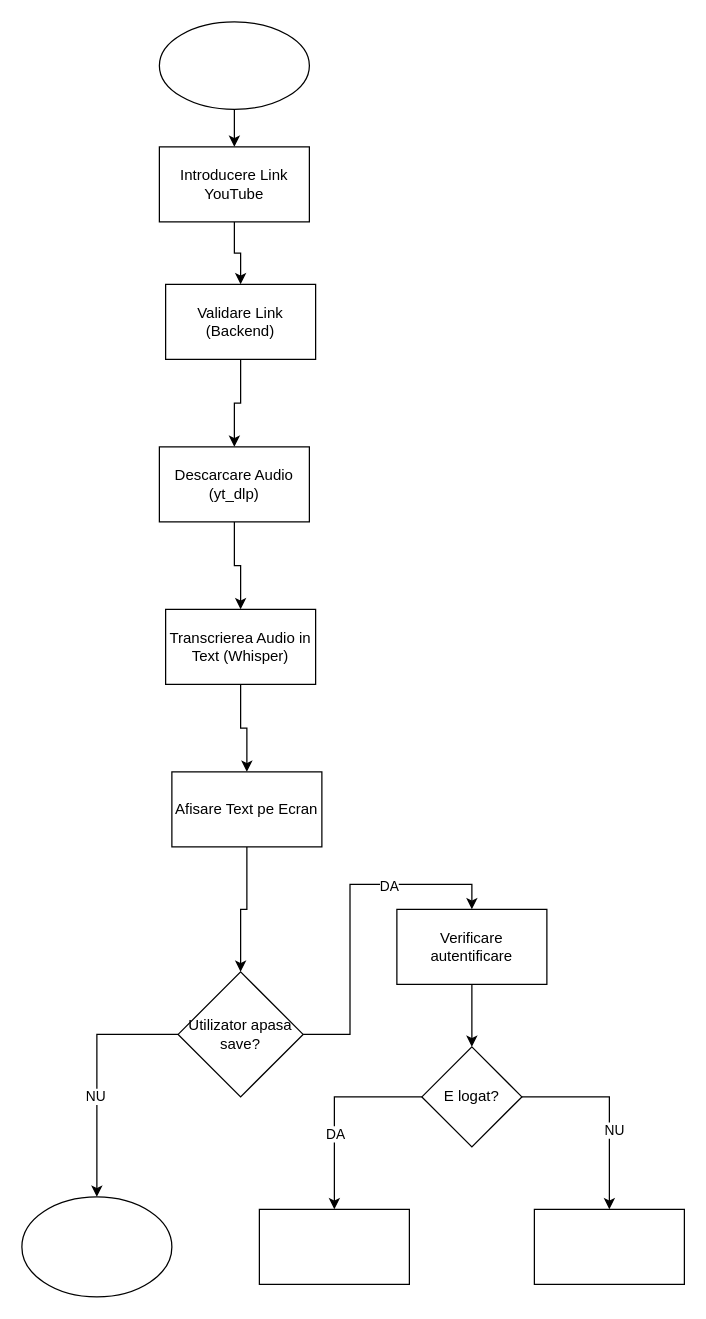
The diagram is 706 pixels wide and 1319 high, and some of its shapes have lost their labels. The shapes that lost their labels are listed below. From the top down, each one's box as (x1, y1, x2, y2) in pixels, then its label:
(158, 21, 309, 109): Start
(21, 1196, 172, 1297): End
(258, 1208, 409, 1284): Salveaza in baza de date
(533, 1208, 684, 1284): Redirectionare Login
